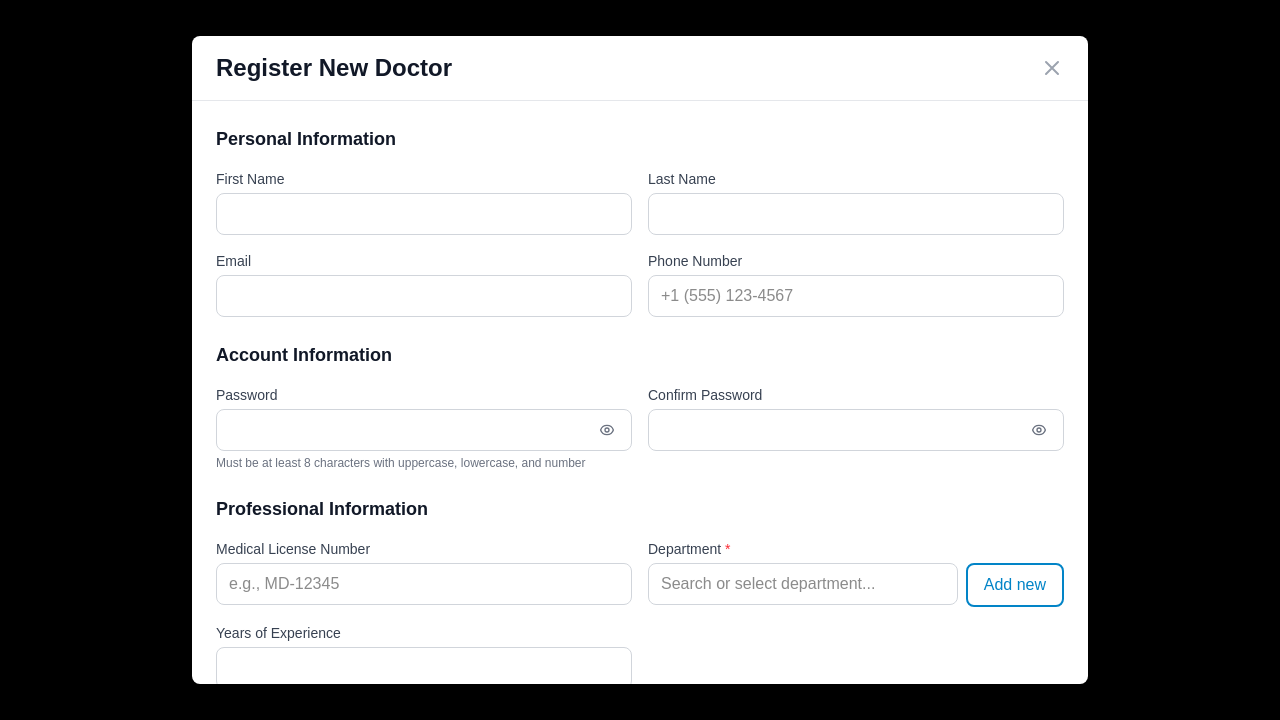
DoctorRegistrationModal › validates email format
Type "invalid-email" into the field labelled "Email" at (424, 296), box [217,276,631,316]
(page scrolled)
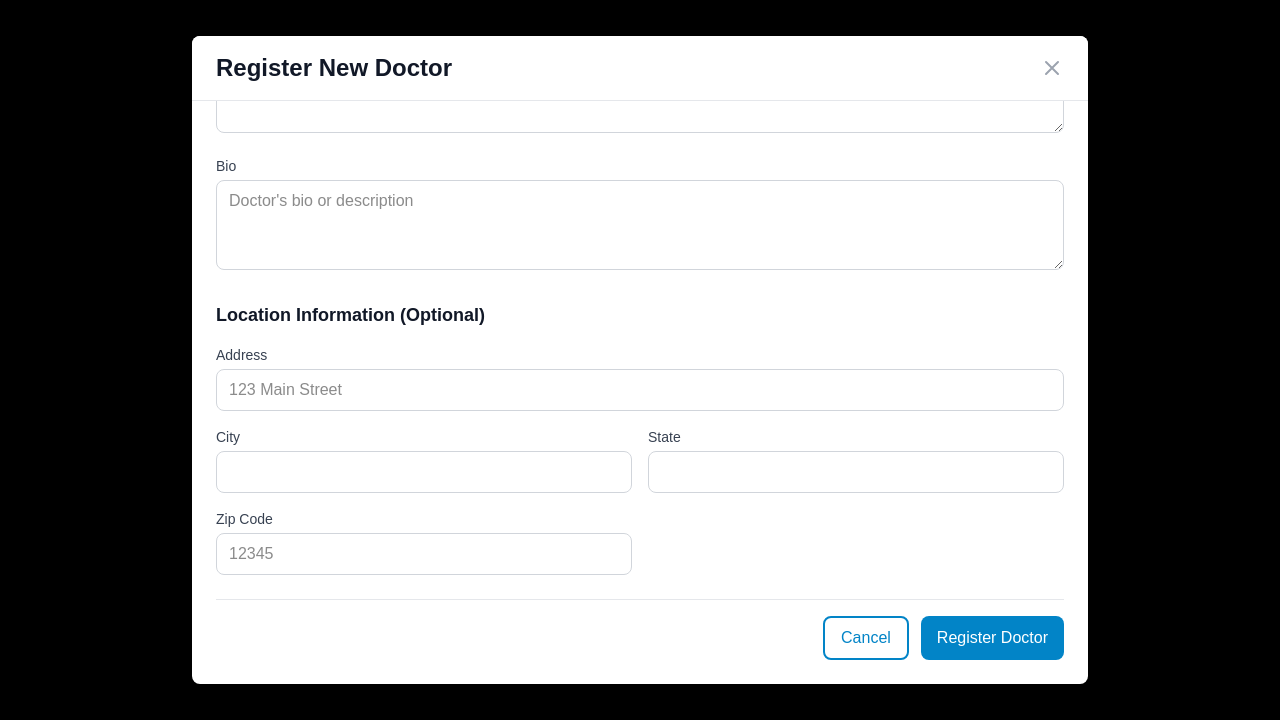
Click the button "Register Doctor" at (992, 638), box [921,616,1064,660]
(page scrolled)
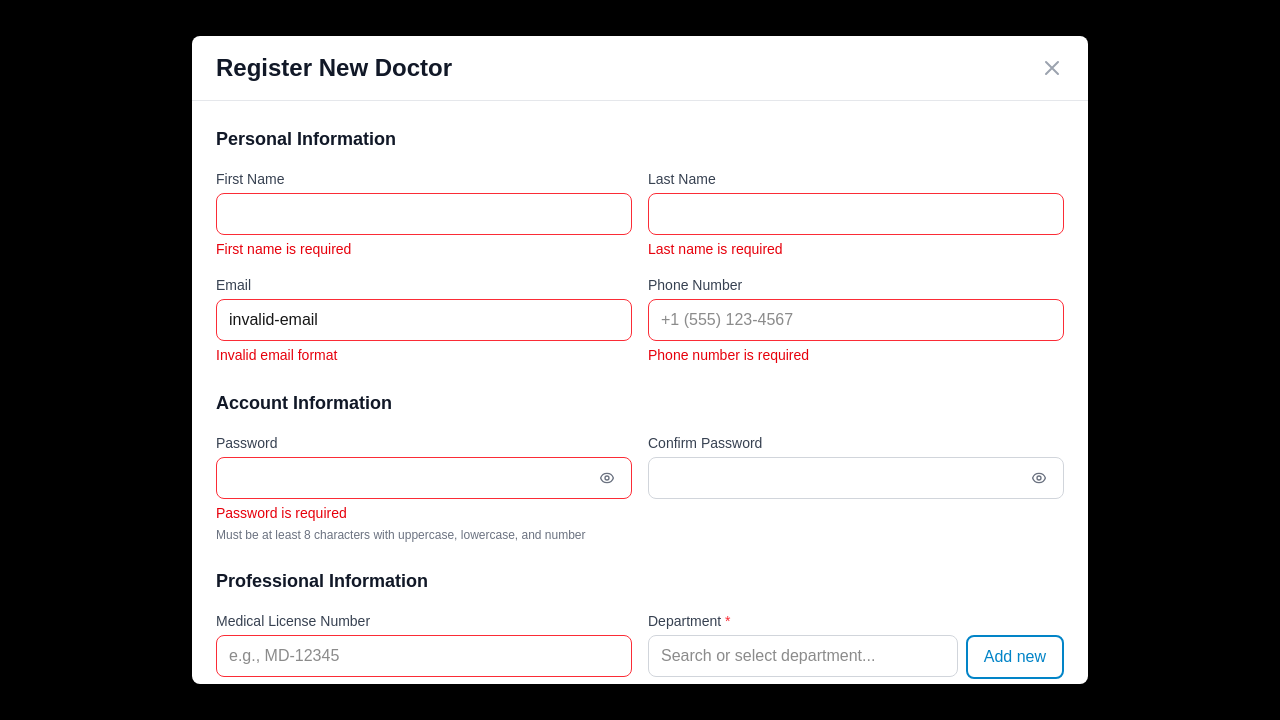
Expected: the text "Invalid email format" is shown, [216,347,337,363]
